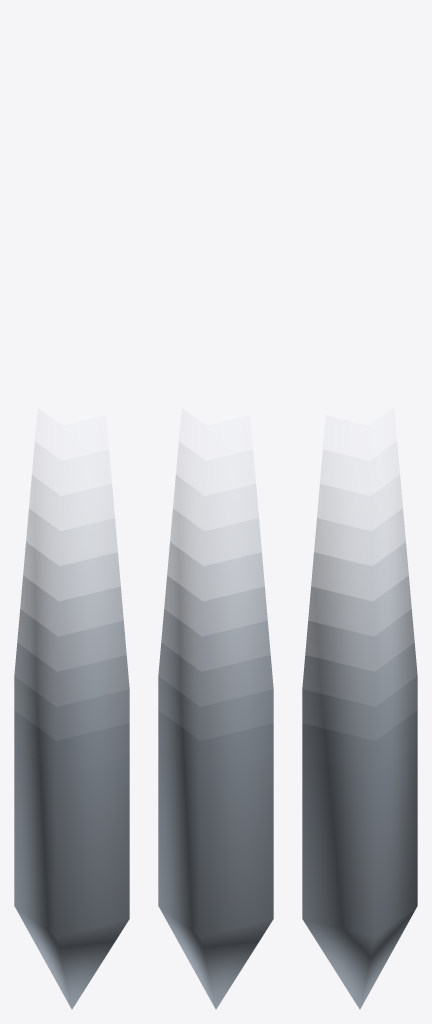
The model's file is raindrop.glb.
The picture shows the model from 3 angles, left to right: view 1: azimuth 30°, elevation 25°; view 2: azimuth 210°, elevation 25°; view 3: azimuth 330°, elevation 25°; orthographic projection.
Parts seen in each view (by area): view 1: raindrop; view 2: raindrop; view 3: raindrop.
Part boxes in pixels (<box>): raindrop: <box>14,475,129,1009</box>; raindrop: <box>158,475,273,1009</box>; raindrop: <box>302,475,417,1009</box>.
Bounding box in the file's own units: 0.0237 × 0.3088 × 0.0237.
1 material, 1 textured.
